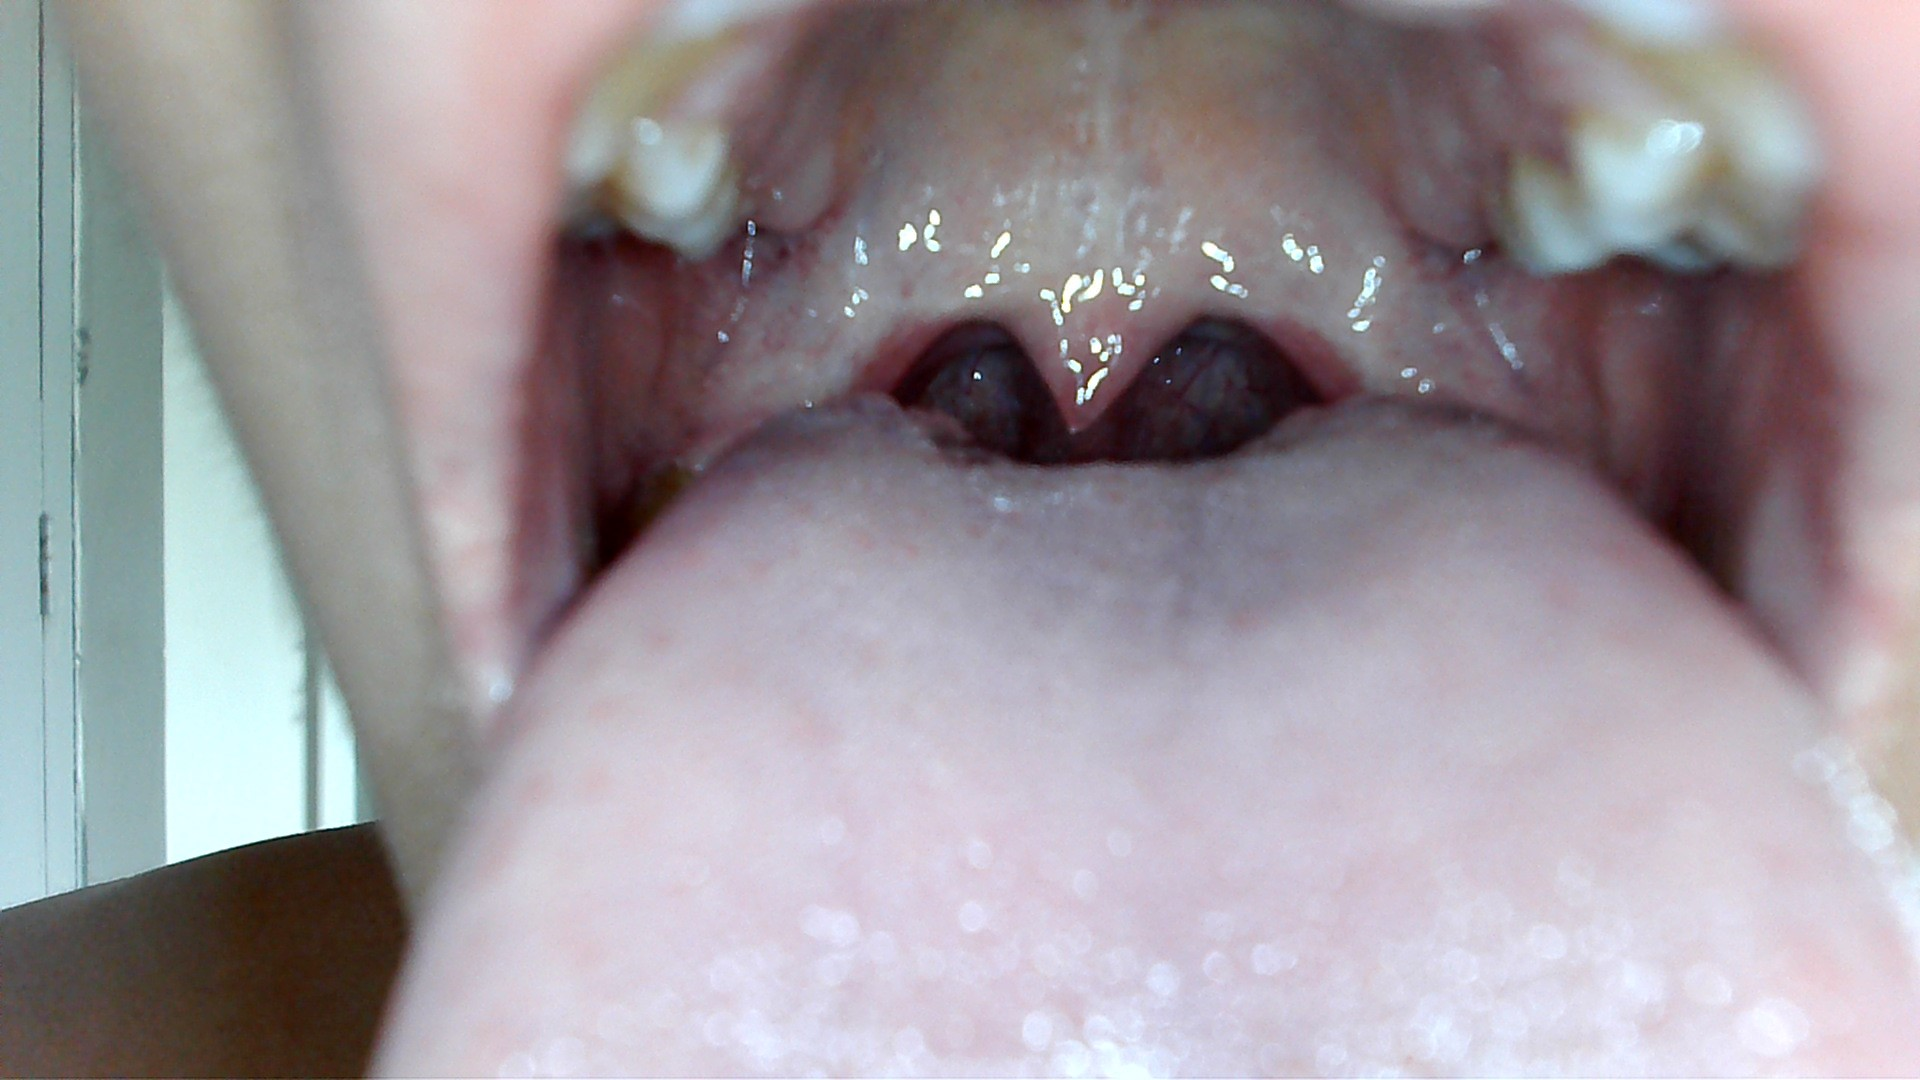throat: (1258, 252, 1482, 400), (746, 280, 938, 425)
